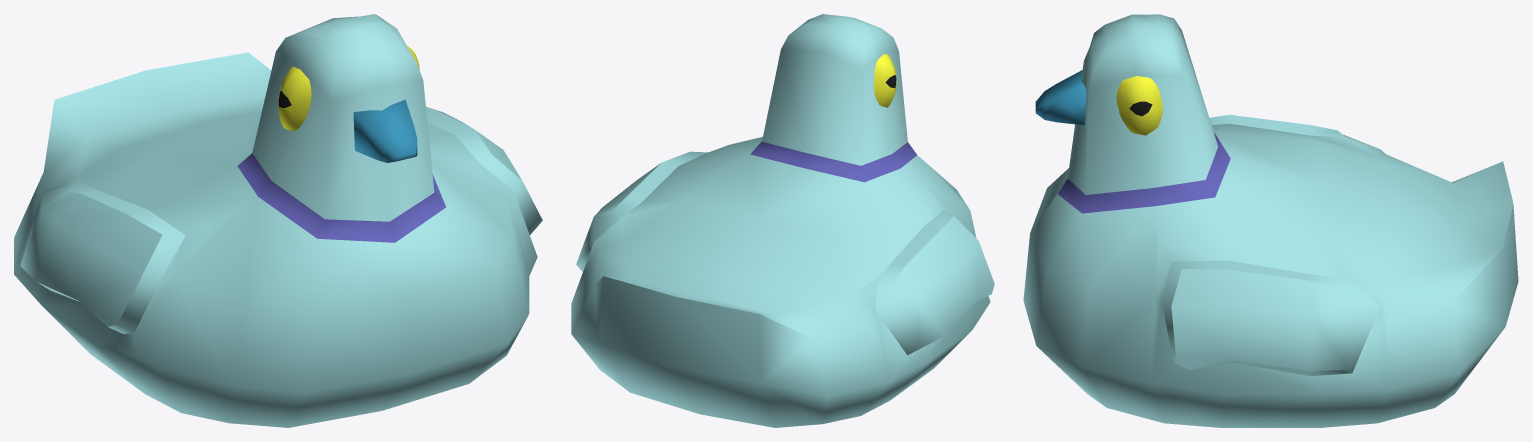
The model's file is Hat_Pigeon.fbx.
3 views of the same model, side by side, from view 1: azimuth 30°, elevation 25°; view 2: azimuth 150°, elevation 25°; view 3: azimuth 270°, elevation 25° (orthographic). The views are drawn at different scales.
Visible parts, largest first — view 1: Pigeon; view 2: Pigeon; view 3: Pigeon.
Part boxes in pixels (x1,y1,x2,y2): Pigeon: [14, 14, 542, 427]; Pigeon: [571, 14, 994, 427]; Pigeon: [1023, 14, 1518, 427].
Bounding box in the file's own units: 58.42 × 45.97 × 61.93.
